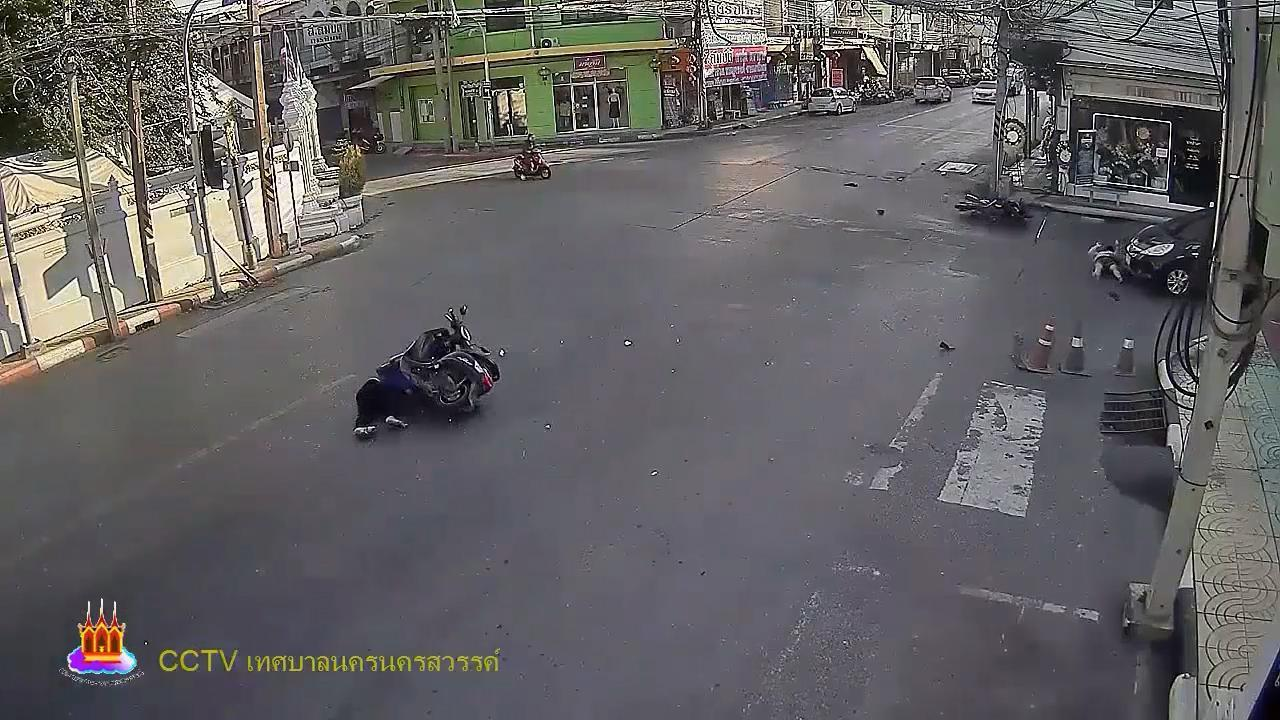accident: (1086, 237, 1130, 285)
